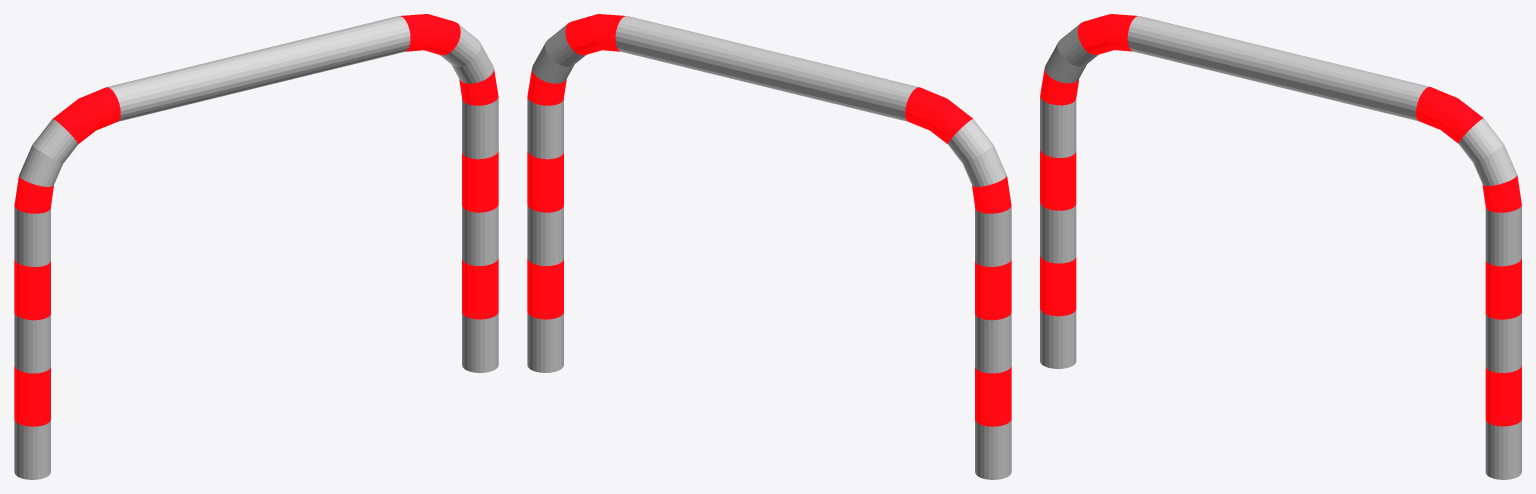
File: Bariera.fbx
The picture shows the model from 3 angles, left to right: view 1: azimuth 30°, elevation 25°; view 2: azimuth 150°, elevation 25°; view 3: azimuth 330°, elevation 25°; orthographic projection.
Parts seen in each view (by area): view 1: Vert; view 2: Vert; view 3: Vert.
Boxes of the visible parts, <box> form: Vert: <box>14,14,498,479</box>; Vert: <box>527,14,1011,479</box>; Vert: <box>1040,14,1521,479</box>.
Bounding box in the file's own units: 303 × 222 × 20.
